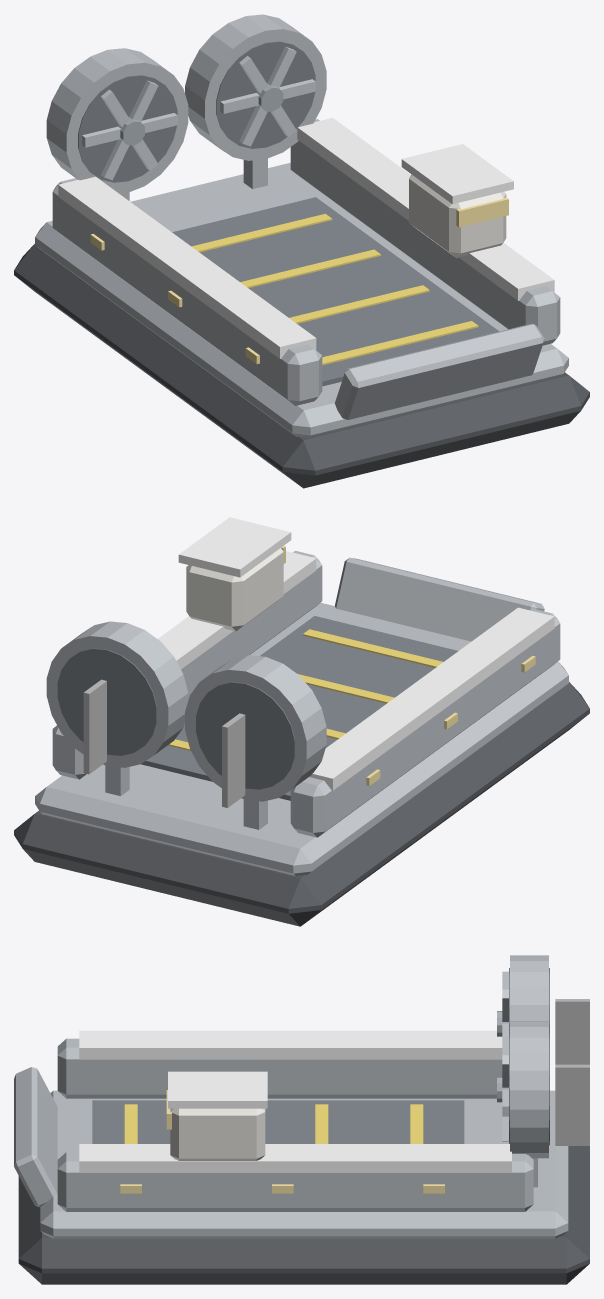
Rendered from barge.glb.
The picture shows the model from 3 angles, top to bottom: view 1: azimuth 30°, elevation 25°; view 2: azimuth 150°, elevation 25°; view 3: azimuth 270°, elevation 25°; orthographic projection. The views are drawn at different scales.
Parts seen in each view (by area): view 1: main; view 2: main; view 3: main.
Part boxes in pixels (bbox=[...]): main: bbox=[14, 14, 589, 488]; main: bbox=[14, 517, 589, 926]; main: bbox=[14, 955, 589, 1284].
Size of the model in its own units: 0.8 by 0.58 by 1.33.
